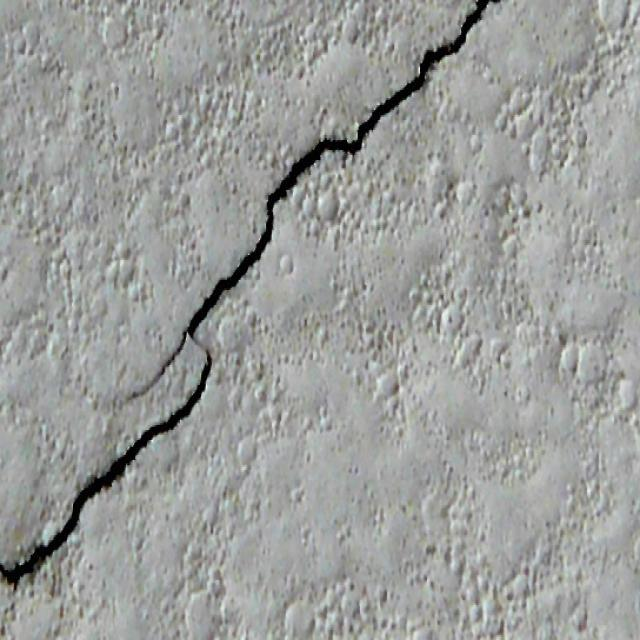Diagonal: (0, 0, 494, 582)
